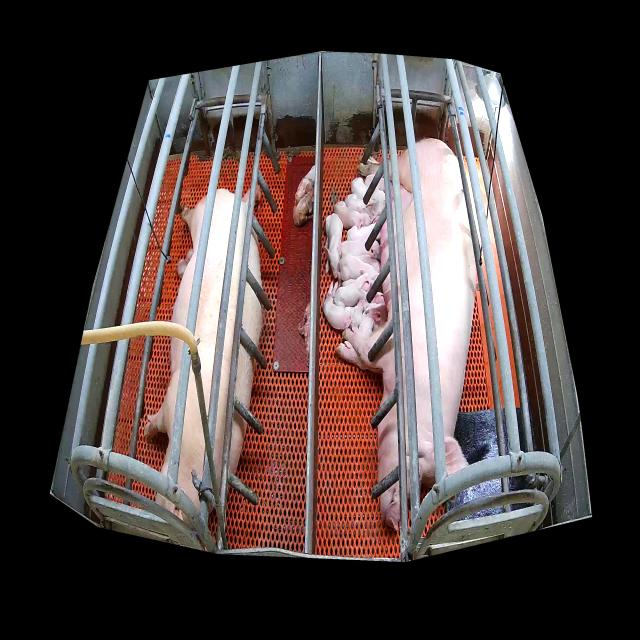pig: (333, 139, 482, 532), (144, 188, 264, 532), (324, 283, 364, 331), (334, 269, 378, 308), (323, 213, 343, 279), (344, 194, 386, 223), (335, 200, 374, 231), (359, 302, 388, 338), (340, 241, 382, 265), (339, 256, 376, 282), (294, 163, 315, 208), (294, 182, 314, 226), (352, 177, 386, 202), (298, 302, 310, 368), (242, 183, 263, 214), (347, 223, 381, 242), (177, 249, 193, 280), (364, 174, 385, 190)
